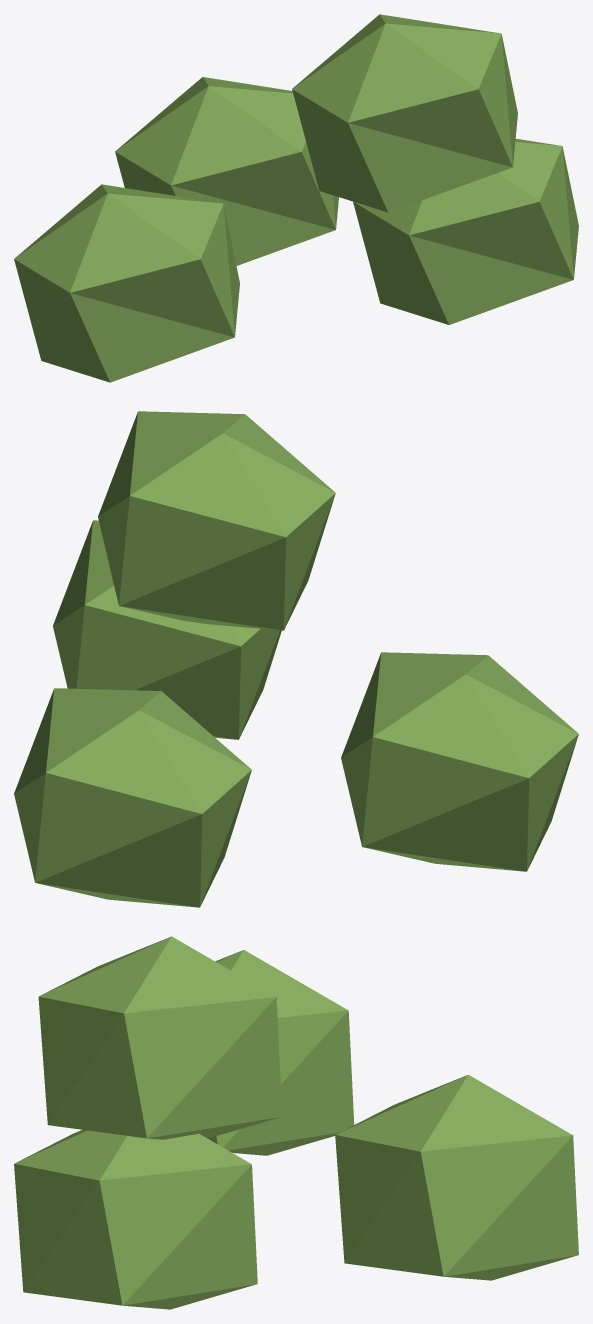
File: Prop_Fruit_Coconuts_01.fbx
3 views of the same model, one above another, from view 1: azimuth 30°, elevation 25°; view 2: azimuth 150°, elevation 25°; view 3: azimuth 270°, elevation 25° (orthographic). The views are drawn at different scales.
Visible parts, largest first — view 1: Prop_Fruit_Coconuts_01; view 2: Prop_Fruit_Coconuts_01; view 3: Prop_Fruit_Coconuts_01.
Part boxes in pixels (<box>): Prop_Fruit_Coconuts_01: <box>14,14,578,382</box>; Prop_Fruit_Coconuts_01: <box>14,411,578,907</box>; Prop_Fruit_Coconuts_01: <box>14,936,578,1309</box>.
Bounding box in the file's own units: 578 × 344 × 485.
